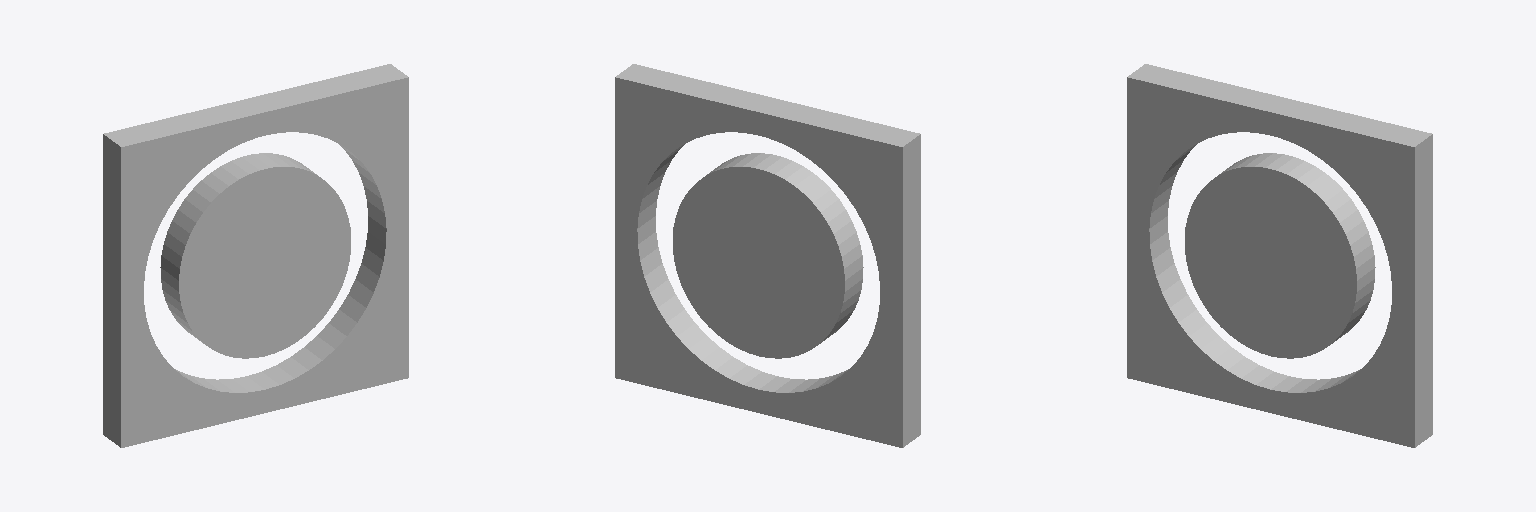
File: EnergyGrooveDisc.obj
3 renders of one model, left to right at view 1: azimuth 30°, elevation 25°; view 2: azimuth 150°, elevation 25°; view 3: azimuth 330°, elevation 25°, orthographic.
Visible parts, largest first — view 1: obj_0; view 2: obj_0; view 3: obj_0.
Boxes of the visible parts, x1=… form: obj_0: x1=103, y1=64, x2=408, y2=447; obj_0: x1=615, y1=64, x2=920, y2=447; obj_0: x1=1127, y1=64, x2=1432, y2=447.
Bounding box in the file's own units: 45 × 45 × 5.